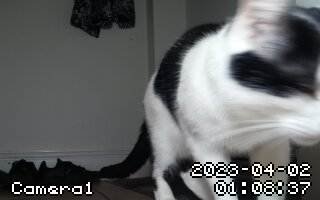bad: (104, 8, 317, 185)
